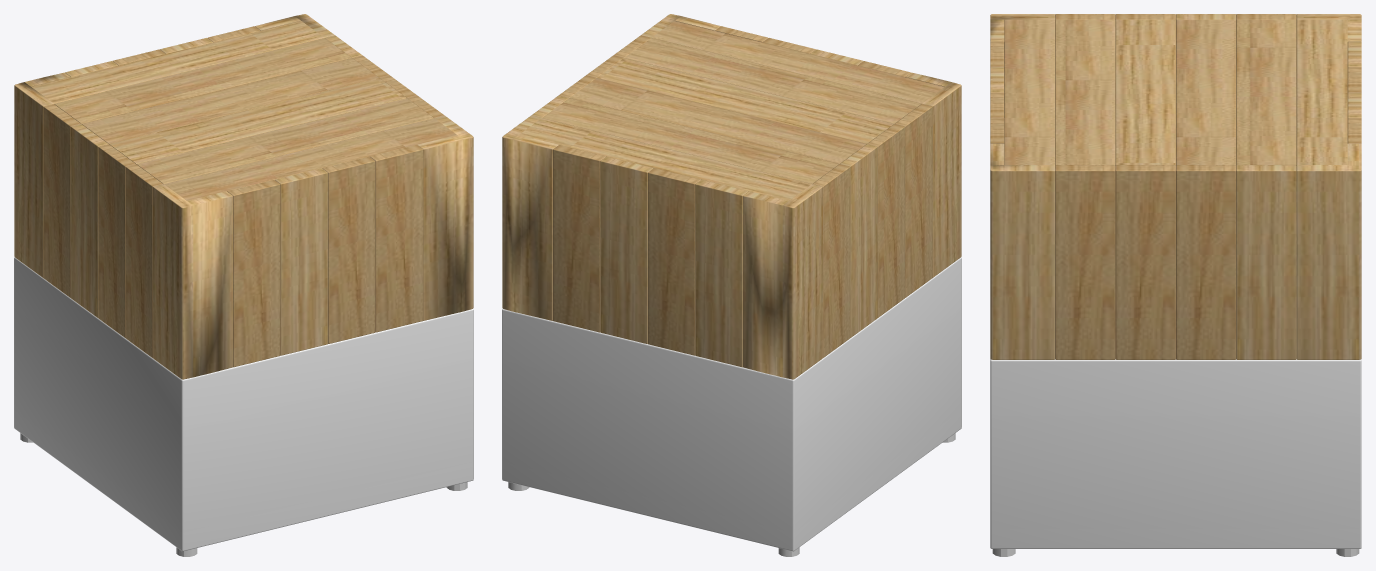
Rendered from sumcube-t-s_topteak.fbx.
3 views of the same model, side by side, from view 1: azimuth 30°, elevation 25°; view 2: azimuth 150°, elevation 25°; view 3: azimuth 270°, elevation 25° (orthographic). The views are drawn at different scales.
Visible parts, largest first — view 1: sumcube-t-s_topteak; view 2: sumcube-t-s_topteak; view 3: sumcube-t-s_topteak.
Part boxes in pixels (<box>): sumcube-t-s_topteak: <box>14,14,473,556</box>; sumcube-t-s_topteak: <box>502,14,961,556</box>; sumcube-t-s_topteak: <box>990,14,1361,556</box>.
Bounding box in the file's own units: 40 × 46 × 40.
6 materials, 6 textured.
